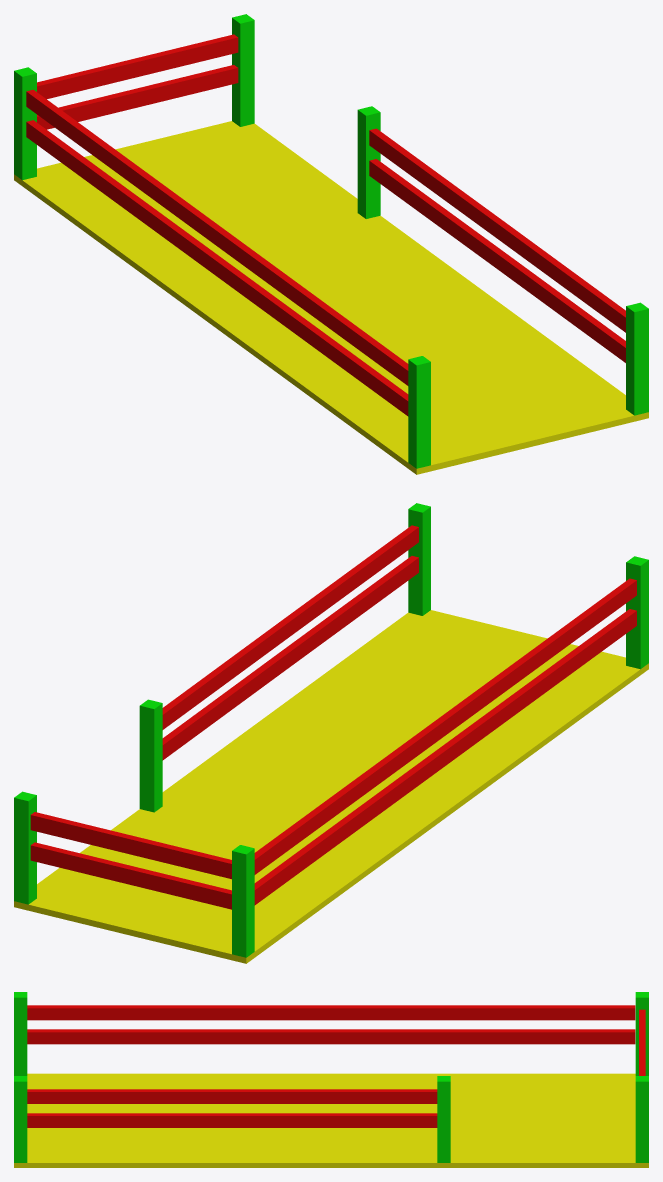
The model's file is WalkwayE_SM (4).fbx.
The picture shows the model from 3 angles, top to bottom: view 1: azimuth 30°, elevation 25°; view 2: azimuth 150°, elevation 25°; view 3: azimuth 270°, elevation 25°; orthographic projection. The views are drawn at different scales.
Visible parts, largest first — view 1: polySurface49; view 2: polySurface49; view 3: polySurface49.
Part boxes in pixels (x1,y1,x2,y2): polySurface49: (14, 14, 648, 474); polySurface49: (14, 503, 648, 963); polySurface49: (14, 992, 648, 1167).
Bounding box in the file's own units: 8 × 3.6 × 24.
